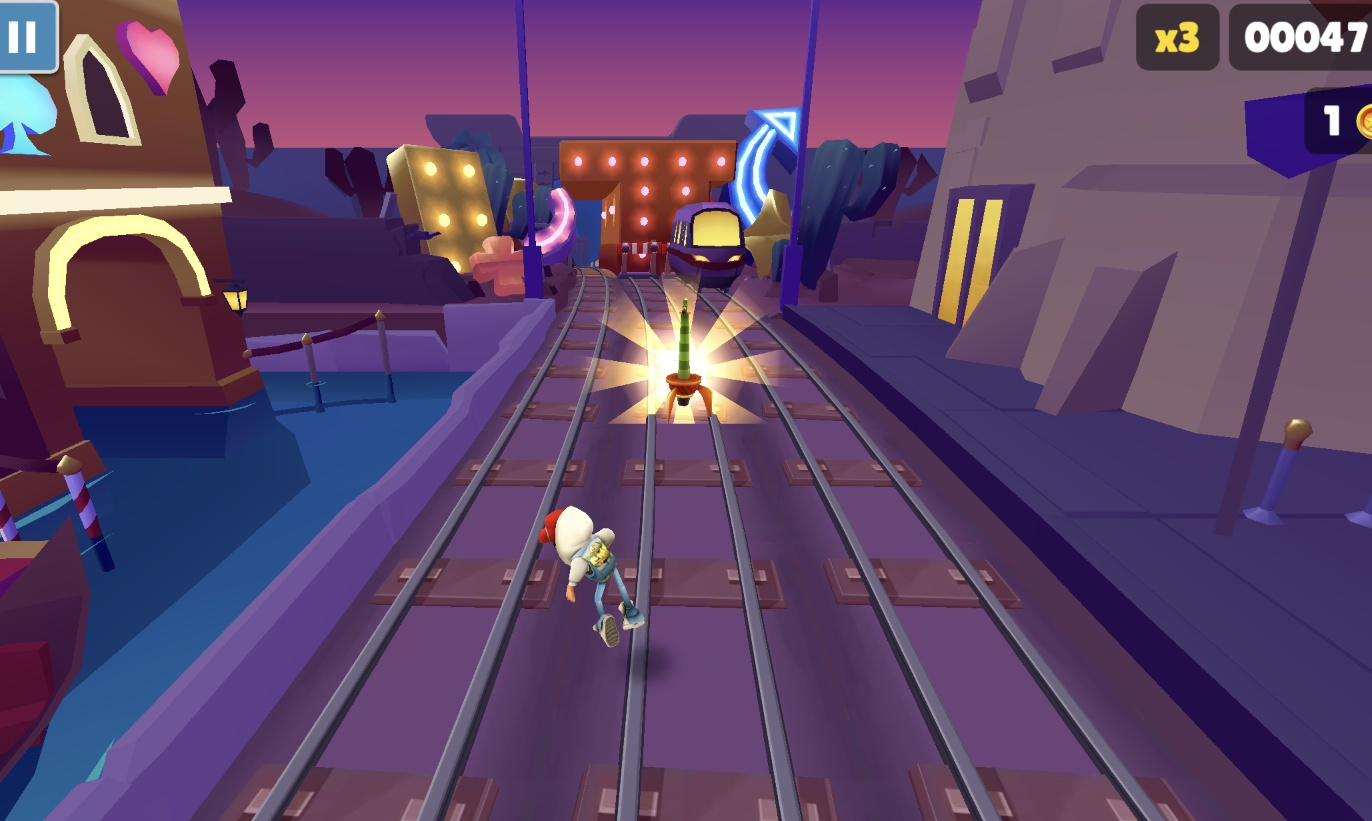ground_barrier: (617, 240, 652, 277), (649, 241, 668, 276)
pillar: (599, 180, 704, 277)
train: (667, 201, 751, 291)
